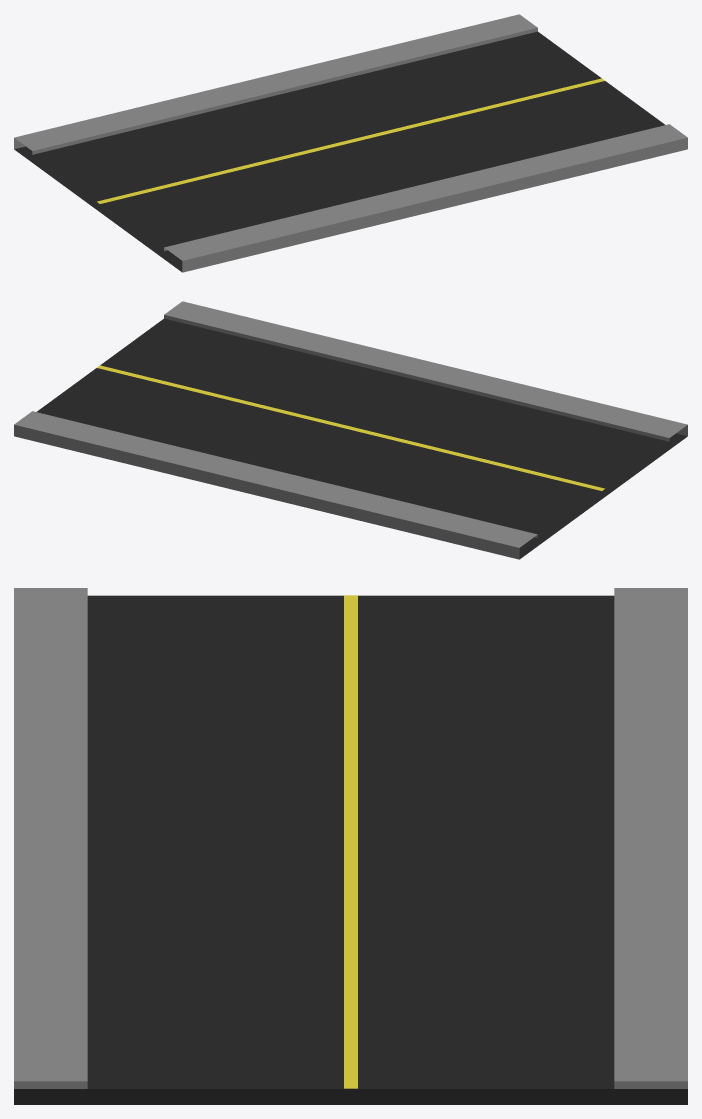
Rendered from road3.fbx.
3 views of the same model, one above another, from view 1: azimuth 30°, elevation 25°; view 2: azimuth 150°, elevation 25°; view 3: azimuth 270°, elevation 25° (orthographic). The views are drawn at different scales.
Visible parts, largest first — view 1: Roads.002; view 2: Roads.002; view 3: Roads.002.
Boxes of the visible parts, left/top/right/bottom form: Roads.002: left=14, top=14, right=687, bottom=272; Roads.002: left=14, top=301, right=687, bottom=559; Roads.002: left=14, top=588, right=687, bottom=1104.
Size of the model in its own units: 1998 by 44.36 by 1154.
